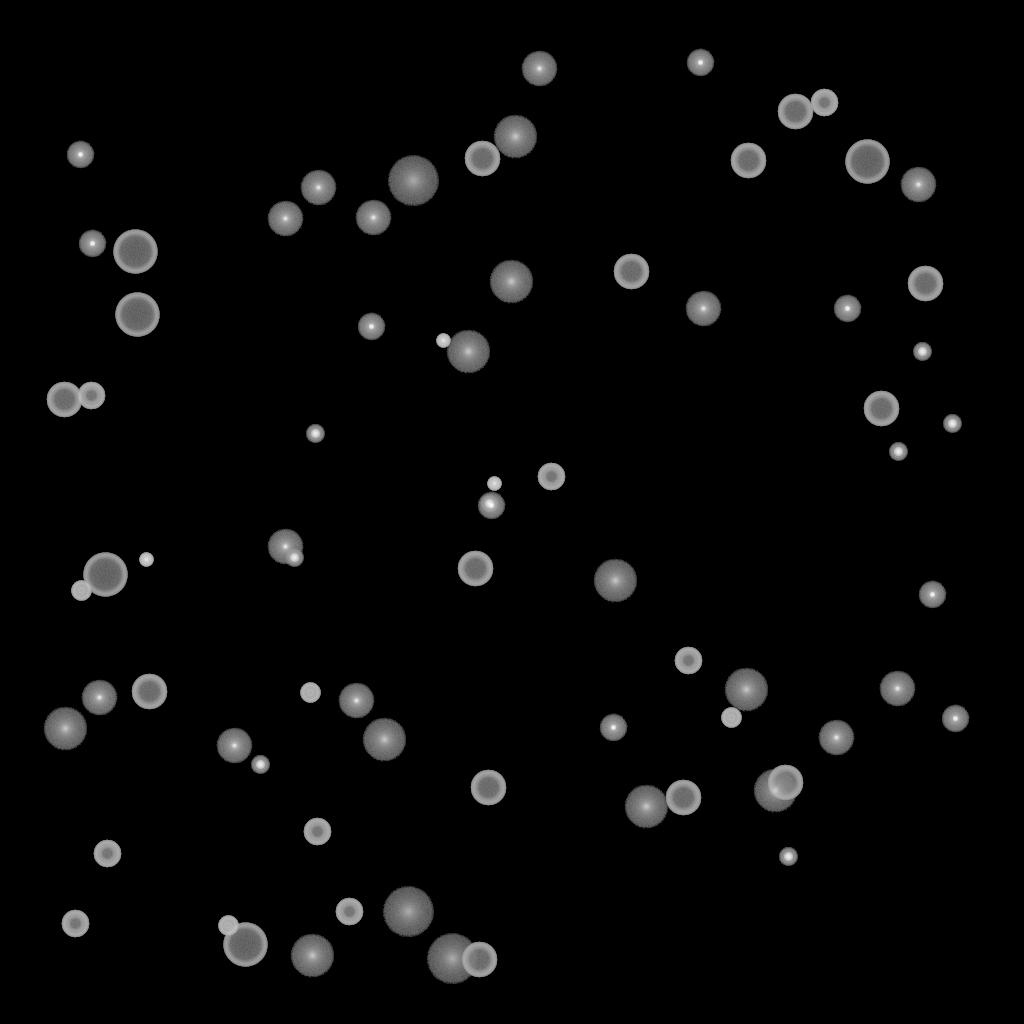depth:-10: (941, 705, 969, 733), (686, 49, 714, 77), (66, 141, 94, 169), (78, 230, 106, 258), (599, 714, 627, 742), (833, 295, 861, 323), (357, 313, 385, 341), (918, 581, 946, 609), (477, 492, 505, 520)
depth:-20: (913, 343, 931, 361), (251, 756, 269, 774), (943, 415, 961, 433), (889, 443, 907, 461), (306, 425, 324, 443), (285, 549, 303, 567), (480, 495, 498, 513), (779, 848, 797, 866)
depth:-30: (487, 477, 501, 491), (436, 334, 450, 348), (139, 553, 153, 567)
depth:-40: (71, 581, 91, 601), (300, 683, 320, 703), (721, 708, 741, 728), (218, 916, 238, 936)
depth:-50: (335, 898, 363, 926), (77, 382, 105, 410), (810, 89, 838, 117), (537, 463, 565, 491), (61, 910, 89, 938), (93, 840, 121, 868), (674, 647, 702, 675), (303, 818, 331, 846)
depth:-60: (907, 266, 943, 302), (457, 551, 493, 587), (767, 765, 803, 801), (730, 143, 766, 179), (665, 780, 701, 816), (470, 770, 506, 806), (863, 391, 899, 427), (461, 942, 497, 978), (46, 382, 82, 418), (613, 254, 649, 290), (777, 94, 813, 130), (131, 674, 167, 710), (464, 141, 500, 177)
depth:-70: (113, 230, 157, 274), (845, 140, 889, 184), (83, 553, 127, 597), (223, 923, 267, 967), (115, 293, 159, 337)
depth:0: (521, 51, 557, 87), (879, 671, 915, 707), (818, 720, 854, 756), (267, 529, 303, 565), (267, 201, 303, 237), (900, 167, 936, 203), (685, 291, 721, 327), (300, 170, 336, 206), (216, 728, 252, 764), (355, 200, 391, 236), (338, 683, 374, 719), (81, 680, 117, 716)
depth:10: (446, 330, 490, 374), (362, 718, 406, 762), (724, 668, 768, 712), (43, 707, 87, 751), (493, 115, 537, 159), (753, 769, 797, 813), (624, 785, 668, 829), (593, 559, 637, 603), (489, 260, 533, 304), (290, 934, 334, 978)
depth:20: (382, 887, 434, 937), (387, 156, 439, 206), (426, 934, 478, 984)
